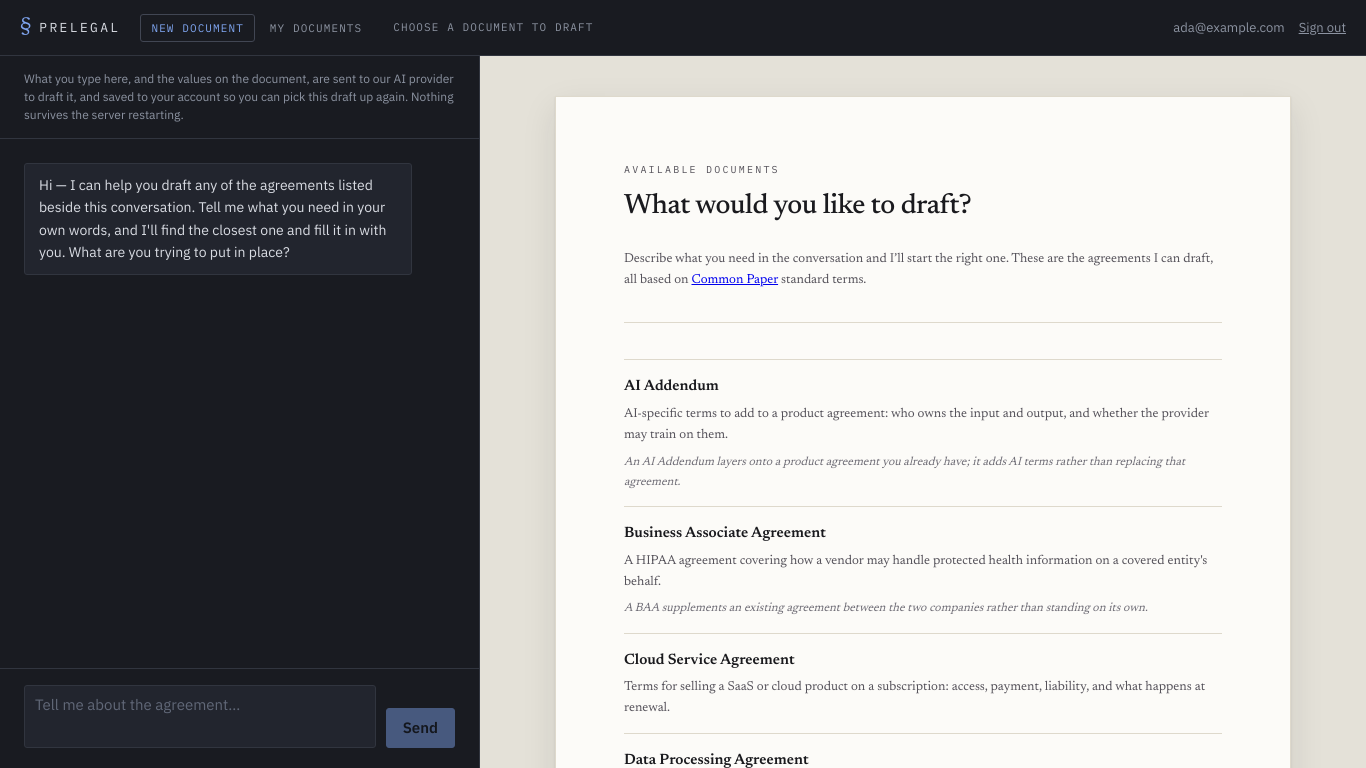
Test: DocumentWorkspace › before a document is chosen › stays on the catalog when the request matches nothing we have
Type "I need an employment contract" into the text box named "Your message" at (200, 716), box [24, 685, 376, 748]
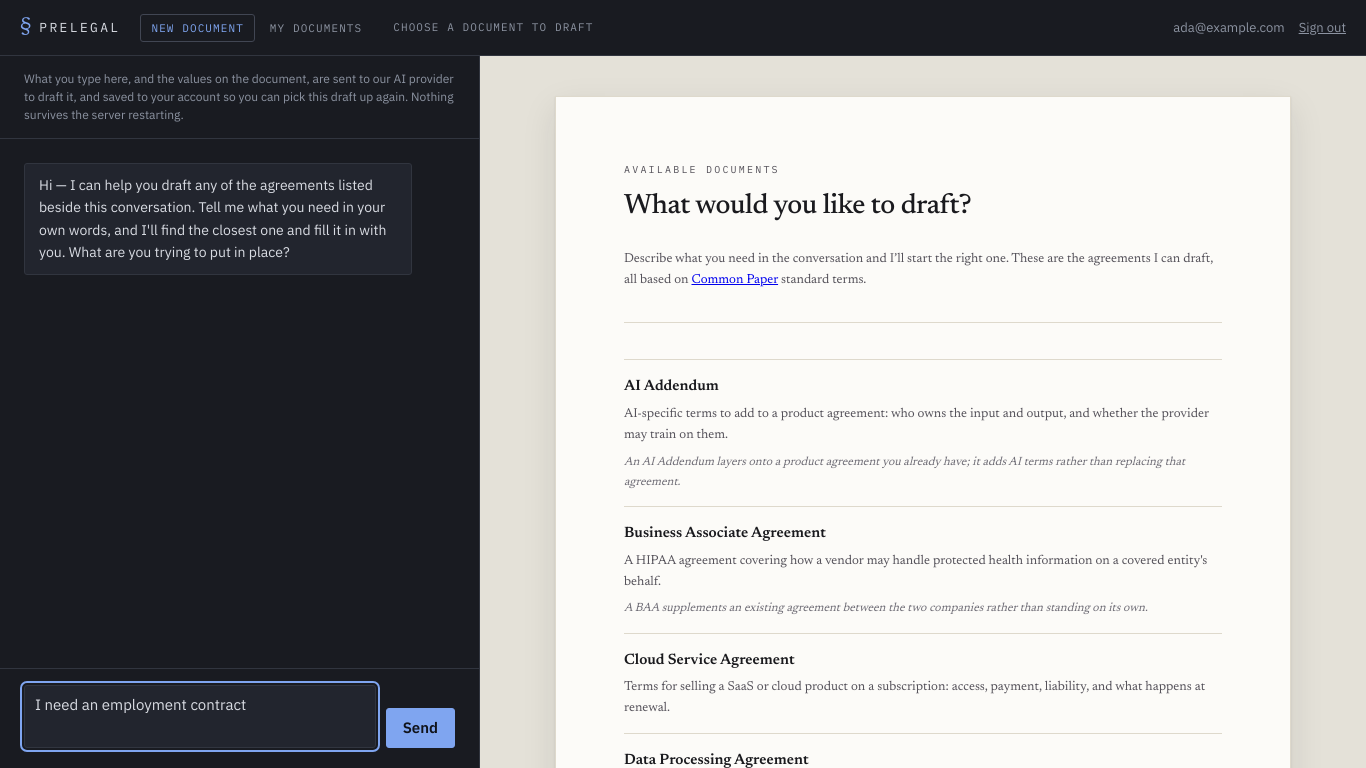
Click the button "Send" at (420, 728), box [386, 708, 455, 748]
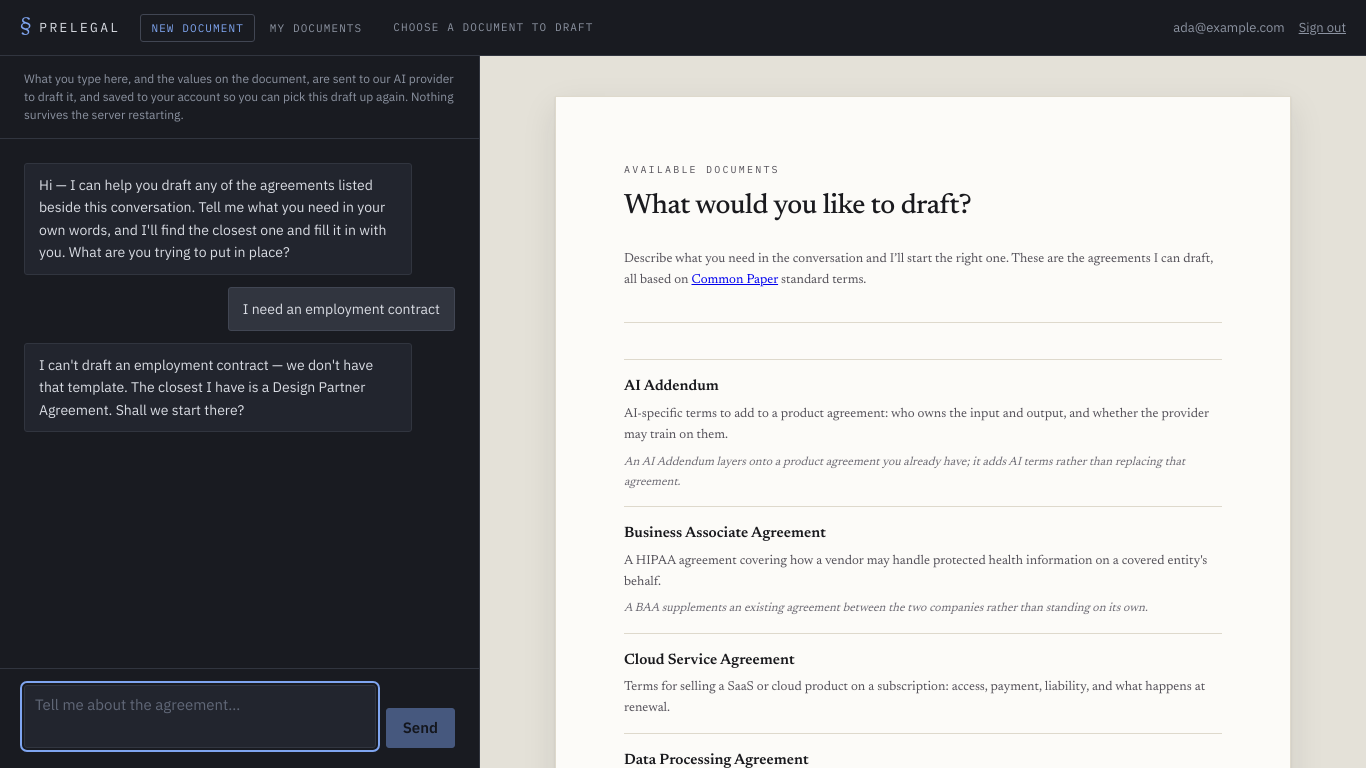
Expected: the heading "What would you like to draft?" is shown, [624, 192, 971, 220]
Now the text "can't draft an employment contract" is shown, box [39, 356, 376, 419]
